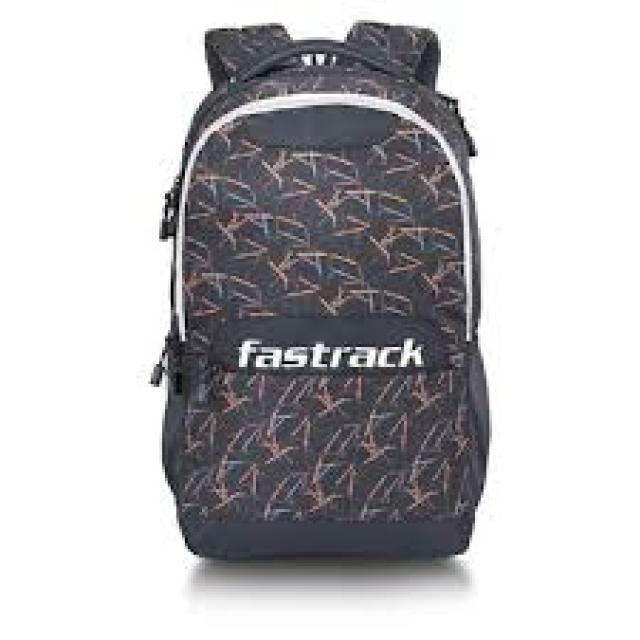backpack: (149, 18, 490, 561)
